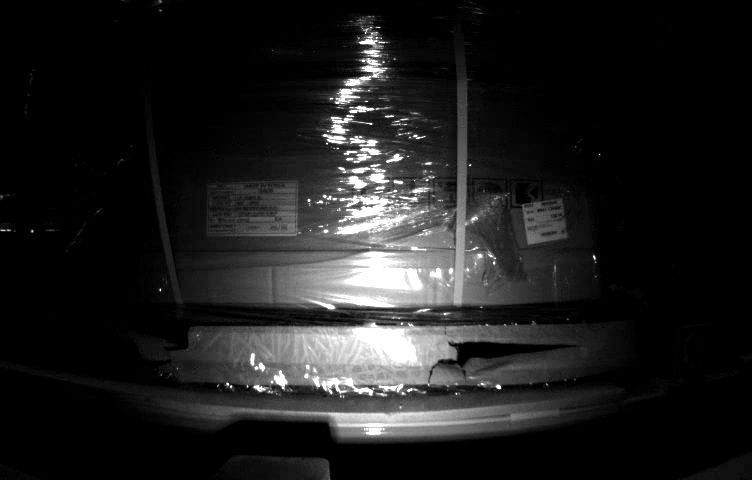True Barcode: (518, 197, 571, 245)
